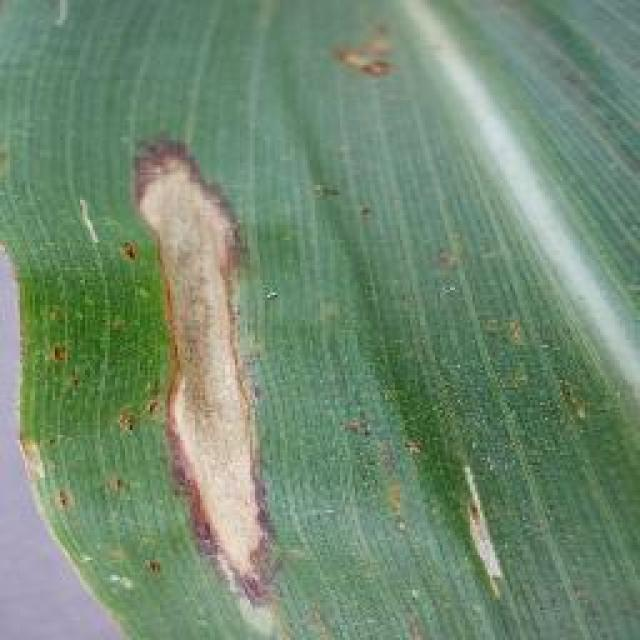Corn___Northern_Leaf_Blight: (86, 9, 526, 604)
